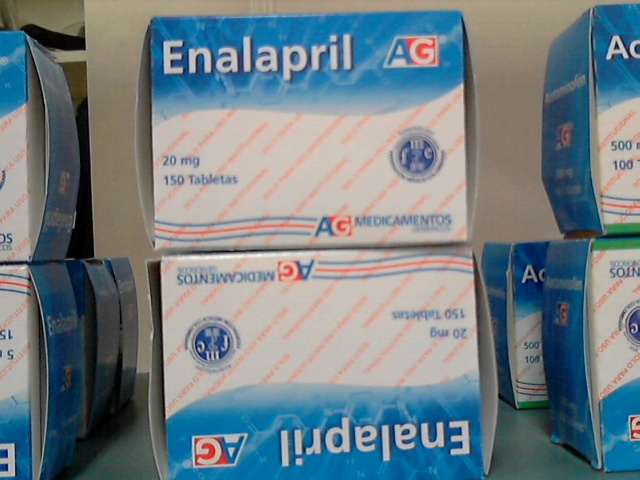AG: (152, 18, 468, 243), (163, 257, 481, 480)
